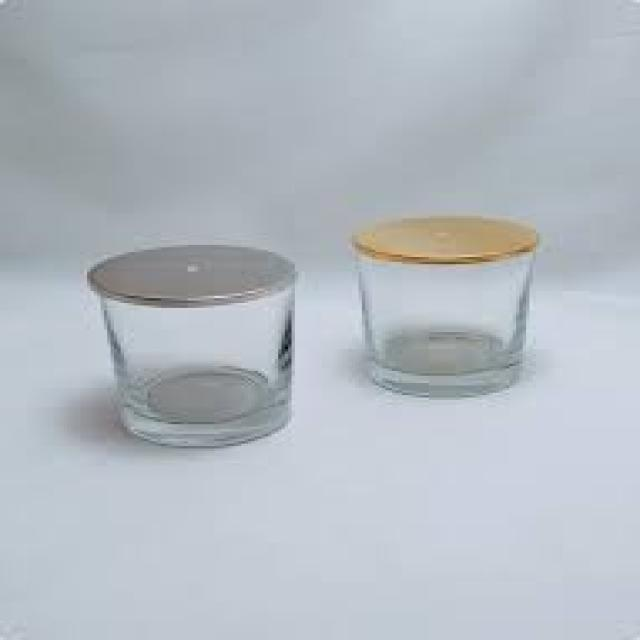Dry Waste: (86, 239, 302, 449), (347, 212, 540, 399)
